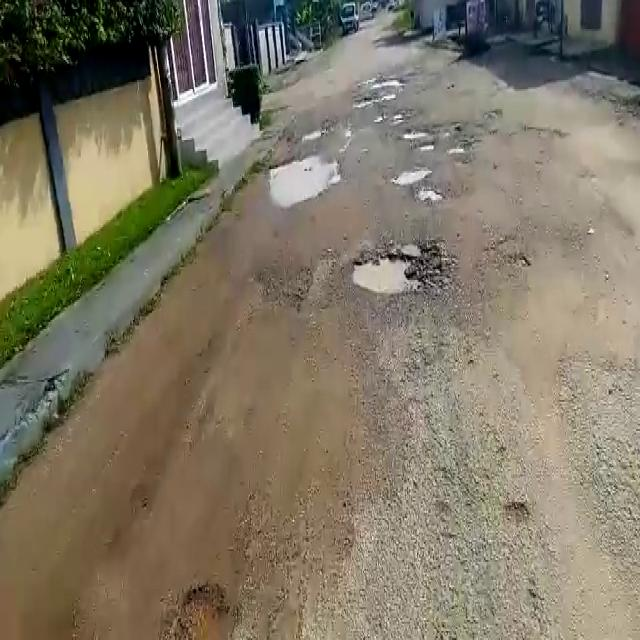Pothole: (347, 243, 446, 299), (172, 579, 240, 638), (268, 156, 342, 205), (387, 164, 431, 187), (376, 109, 411, 125), (412, 188, 444, 203), (446, 145, 466, 158), (401, 129, 429, 138), (417, 141, 437, 151)
